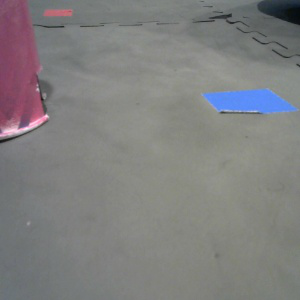middle: (1, 1, 49, 140)
